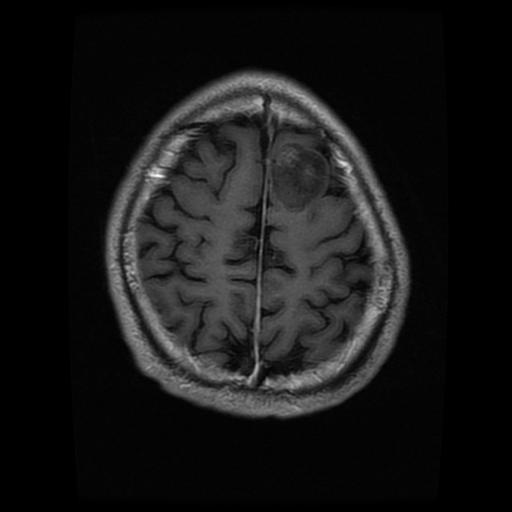Gliomia_tumour: (271, 139, 329, 210)
